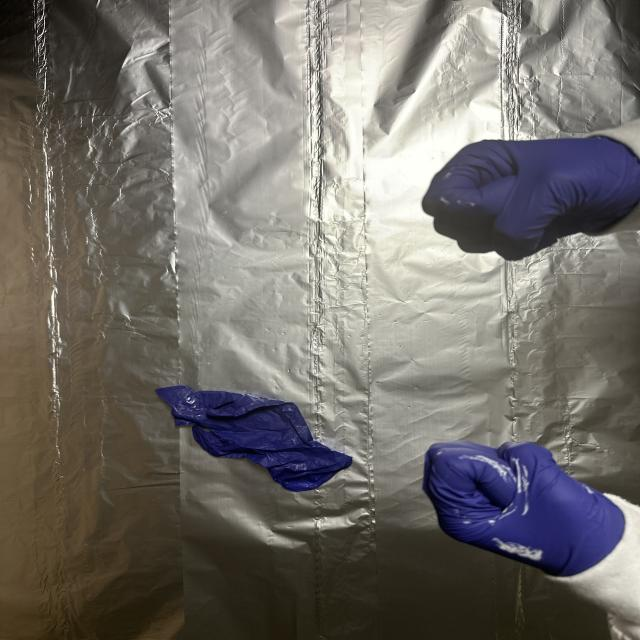gloves_contaminated: (423, 442, 624, 576), (423, 136, 640, 260)
